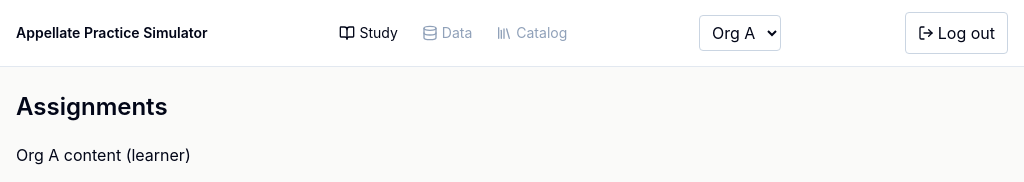
Test: OrganizationContextProvider › shows capability navigation from the selected organization role
This screenshot has width=1024, height=182.
Expected: the text "Org A content (learner)" is shown, [16,145,191,165]
Expected: the link "Courses" is not shown
Select "Org B" in the dropdown named "Organization" at (740, 33), box [699,15,781,51]
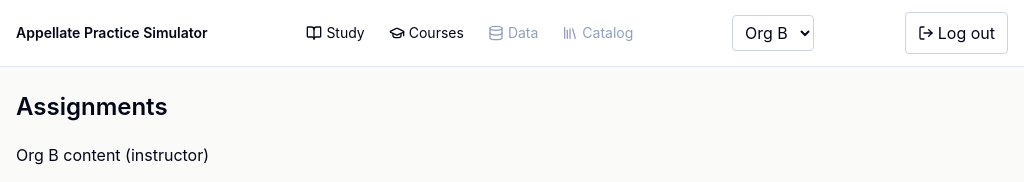
Expected: the link "Organization administration" is not shown
Expected: the text "Org B content (instructor)" is shown, [16,145,209,165]
Expected: the link "Courses" is shown, [389,24,464,41]
Select "Org C" in the dropdown named "Organization" at (773, 33), box [732,15,814,51]
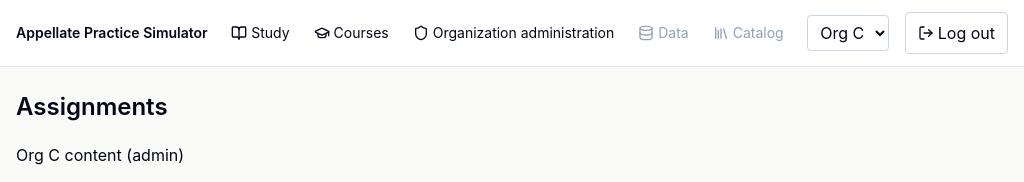
Expected: the text "Org C content (admin)" is shown, [16,145,184,165]
Expected: the link "Organization administration" is shown, [405,19,622,47]
